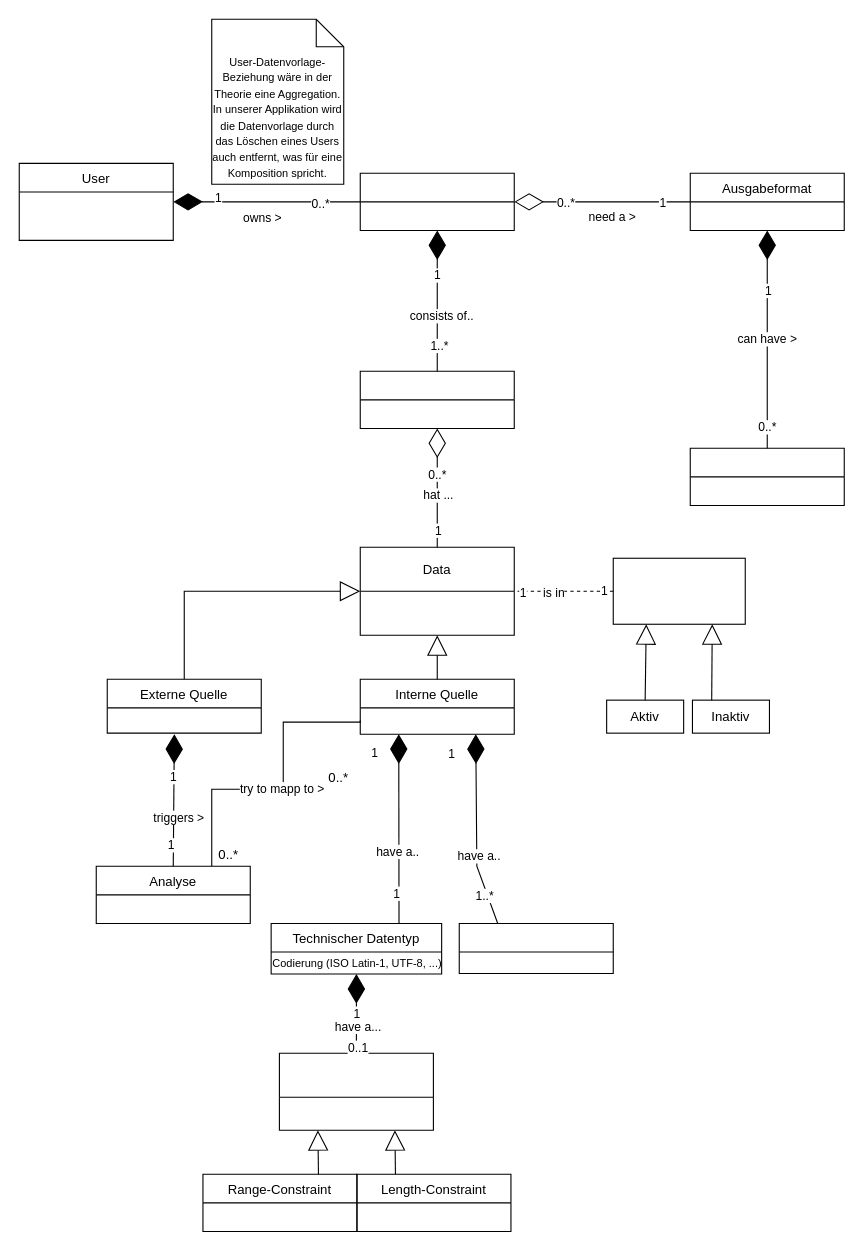
The diagram is 864 pixels wide and 1251 high, and some of its shapes have lost their labels. Here are the shapes that lost their labels. From the top down, the centre of each, then its label:
pixel 436 201: Datenvorlage
pixel 436 399: Zeile
pixel 766 476: Optionen
pixel 678 590: AktivState
pixel 535 948: Fachlicher Datentyp
pixel 355 1091: Constraint
